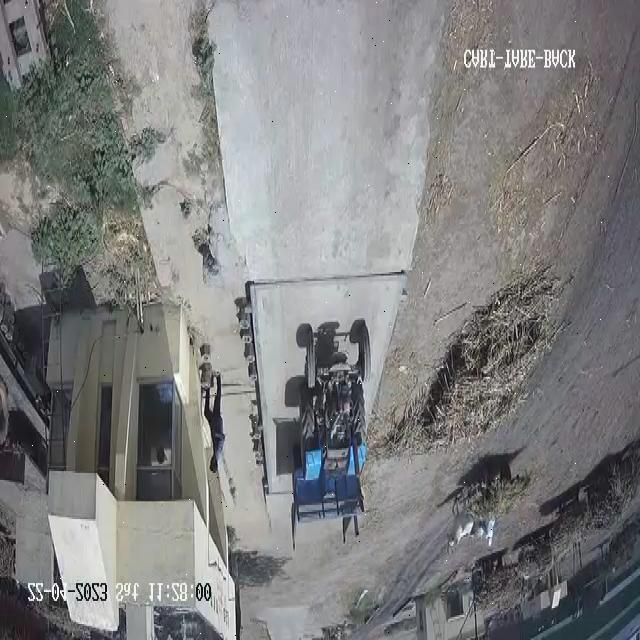Tratores - v5 YOLO V8L 2024-11-13: (301, 324, 374, 466)
